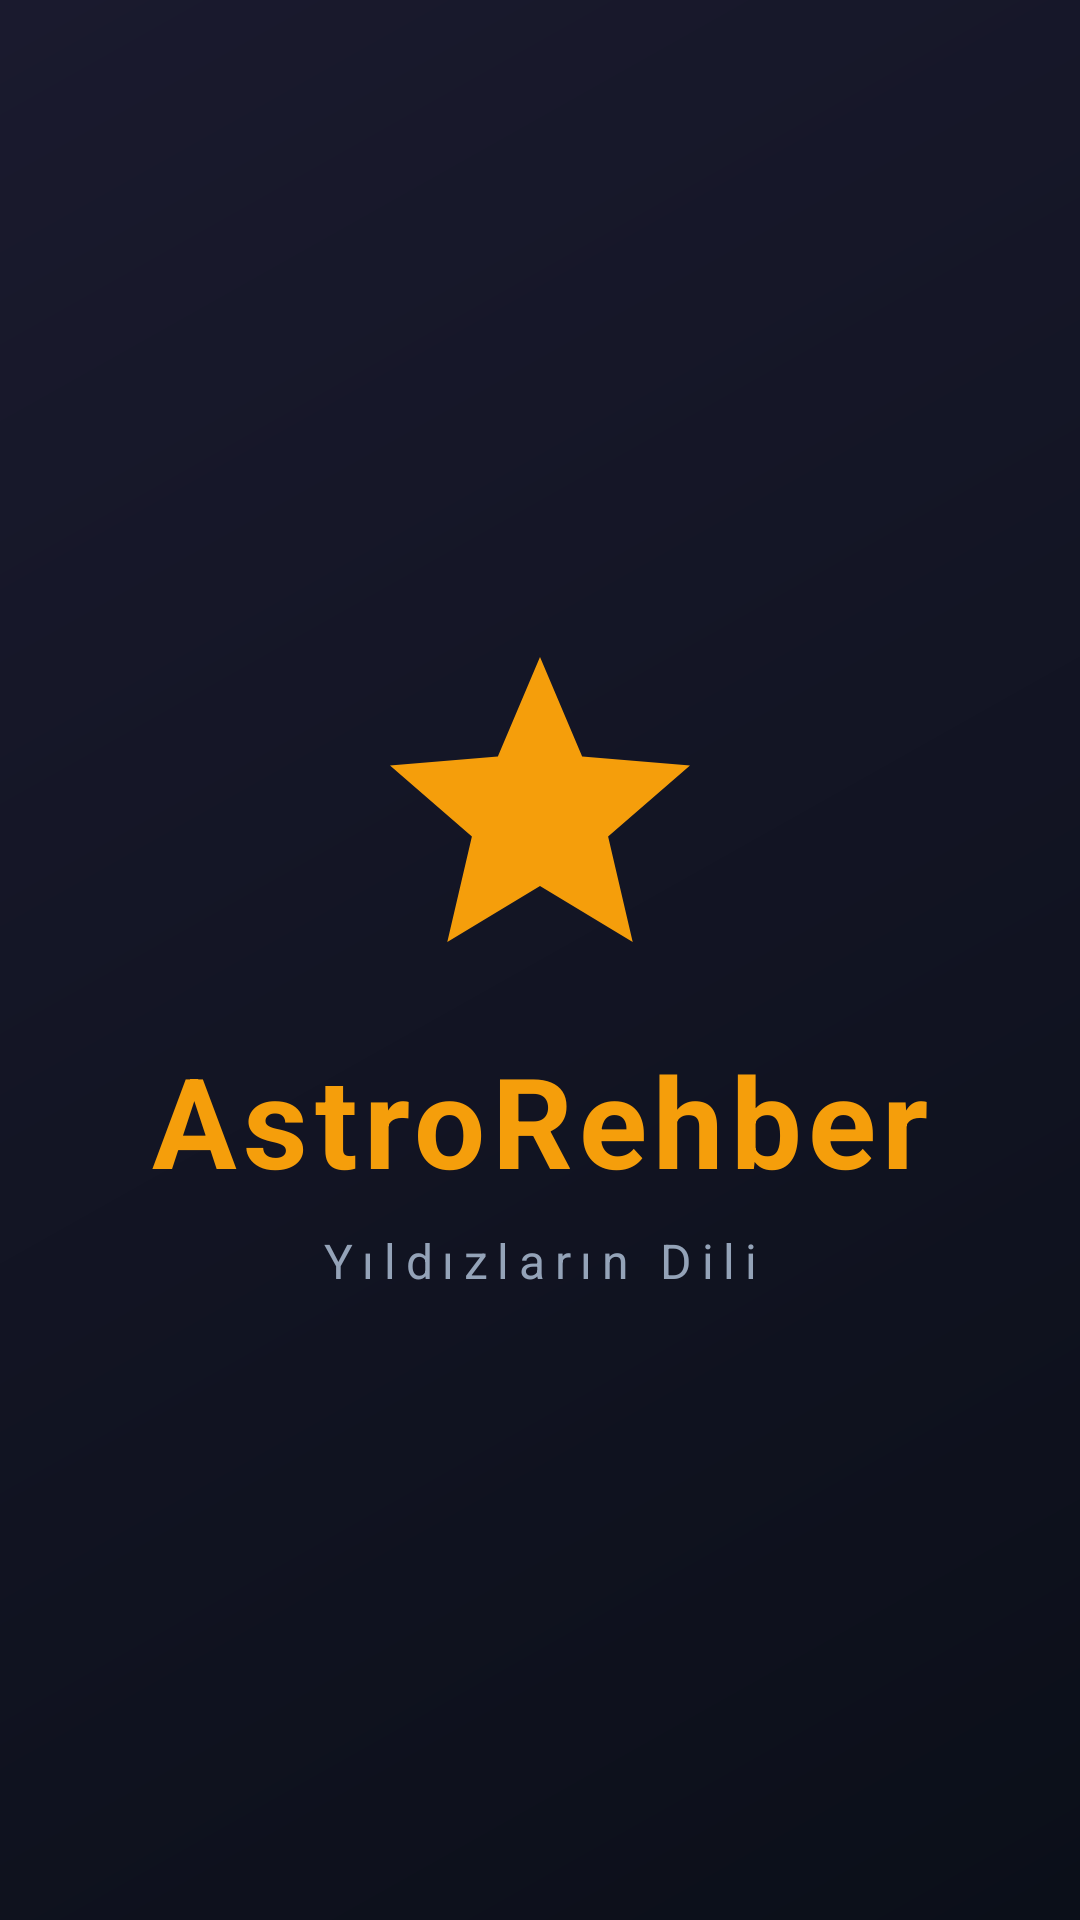

Locate icon controls on the screen. Image size 1080px×1920px, boxes as (x1, y1, x2, y2).
star premium: (390, 657, 690, 942)
